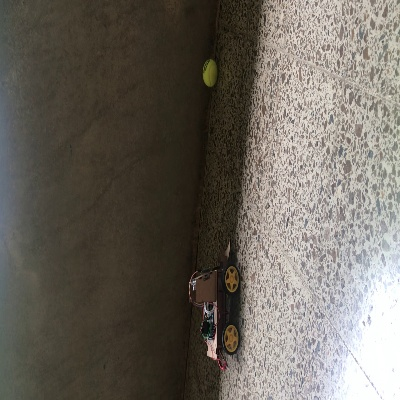Ball: (202, 58, 217, 86)
Robot: (188, 238, 240, 359)
